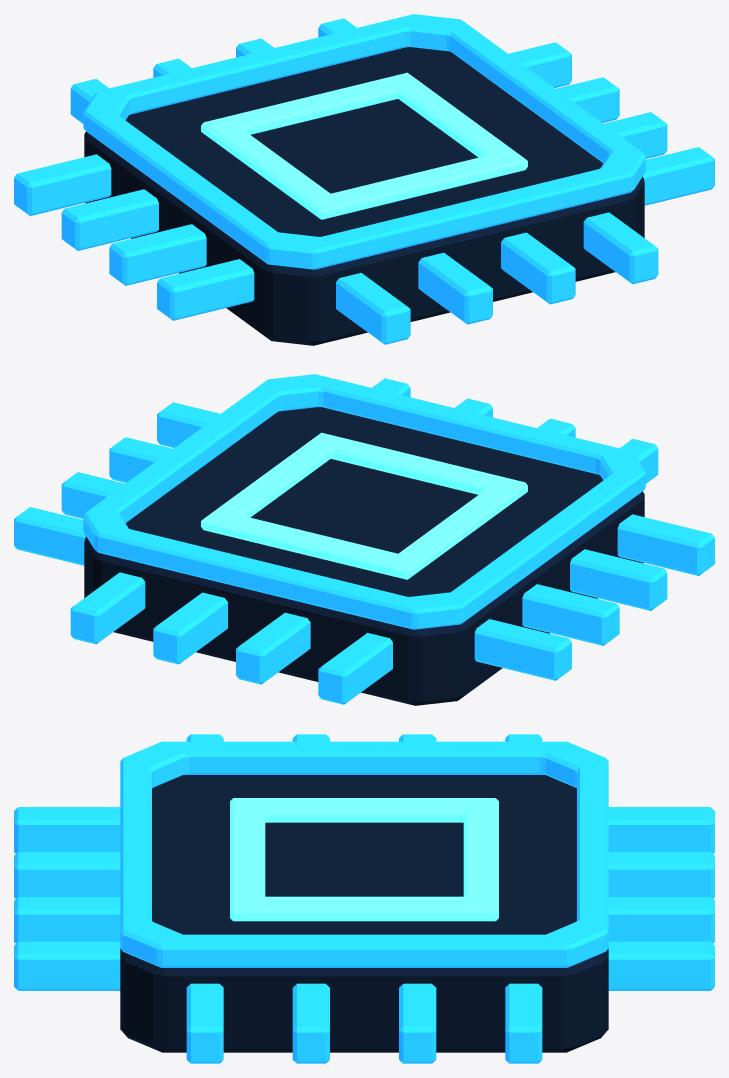
Rendered from chip.glb.
3 views of the same model, one above another, from view 1: azimuth 30°, elevation 25°; view 2: azimuth 150°, elevation 25°; view 3: azimuth 270°, elevation 25° (orthographic). The views are drawn at different scales.
Parts seen in each view (by area): view 1: chip-blue, chip-shell, chip-core; view 2: chip-blue, chip-shell, chip-core; view 3: chip-blue, chip-shell, chip-core.
Part boxes in pixels (x1,y1,x2,y2): chip-blue: (14,14,714,344); chip-shell: (84,47,644,345); chip-core: (201,72,527,219); chip-blue: (14,374,714,704); chip-shell: (84,407,644,705); chip-core: (201,432,527,579); chip-blue: (14,734,714,1063); chip-shell: (120,775,608,1052); chip-core: (230,798,498,921).
Size of the model in its own units: 2 by 0.3434 by 2.
